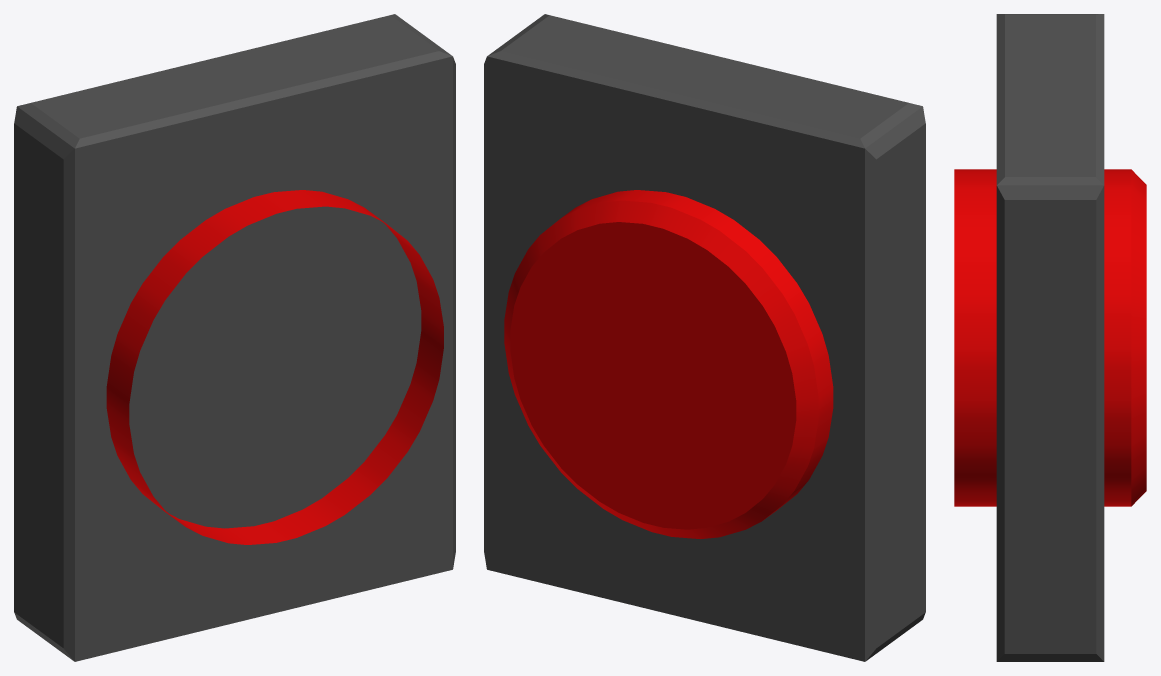
The model's file is Button.fbx.
3 views of the same model, side by side, from view 1: azimuth 30°, elevation 25°; view 2: azimuth 150°, elevation 25°; view 3: azimuth 270°, elevation 25° (orthographic). The views are drawn at different scales.
Parts seen in each view (by area): view 1: Scary_Button_Base, The_Scary_Button; view 2: Scary_Button_Base, The_Scary_Button; view 3: Scary_Button_Base, The_Scary_Button.
Boxes of the visible parts, <box> form: Scary_Button_Base: <box>14,14,455,661</box>; The_Scary_Button: <box>106,190,443,544</box>; Scary_Button_Base: <box>484,14,925,661</box>; The_Scary_Button: <box>504,190,833,538</box>; Scary_Button_Base: <box>996,14,1104,661</box>; The_Scary_Button: <box>954,169,1146,506</box>.
Size of the model in its own units: 0.1624 by 0.2065 by 0.0742.
